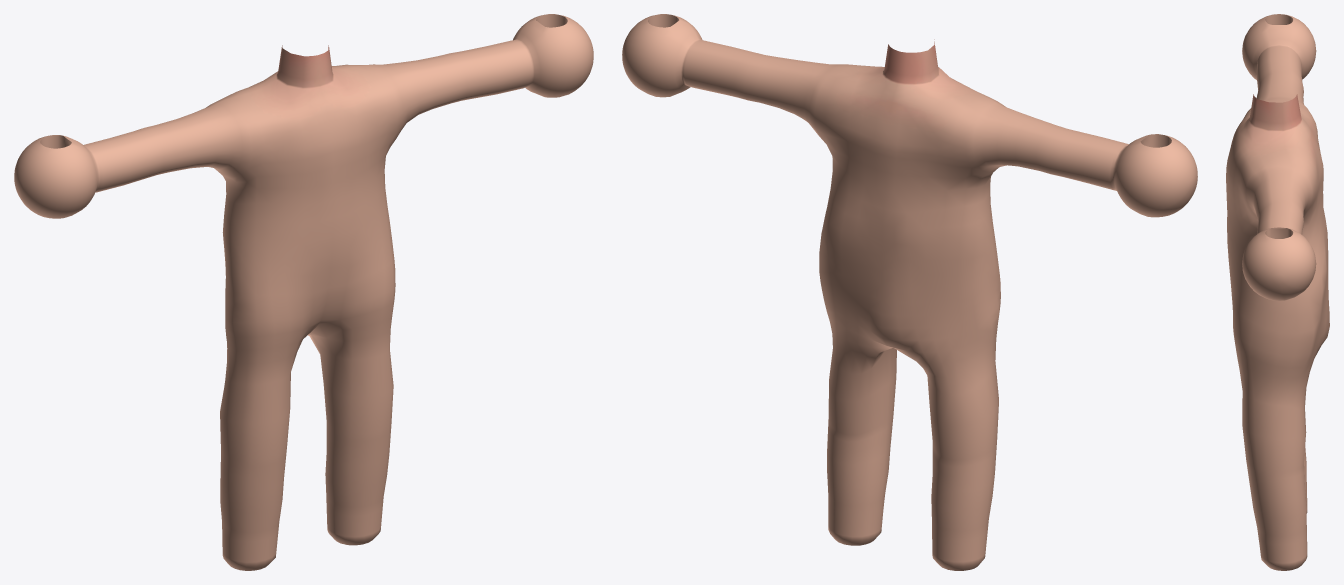
File: body_01.glb
3 views of the same model, side by side, from view 1: azimuth 30°, elevation 25°; view 2: azimuth 150°, elevation 25°; view 3: azimuth 270°, elevation 25° (orthographic). The views are drawn at different scales.
Parts seen in each view (by area): view 1: body; view 2: body; view 3: body.
Boxes of the visible parts, left/top/right/bottom form: body: left=14, top=14, right=593, bottom=570; body: left=622, top=14, right=1197, bottom=570; body: left=1226, top=14, right=1329, bottom=570.
Size of the model in its own units: 0.0152 by 0.013 by 0.00273.
1 material, 1 textured.
